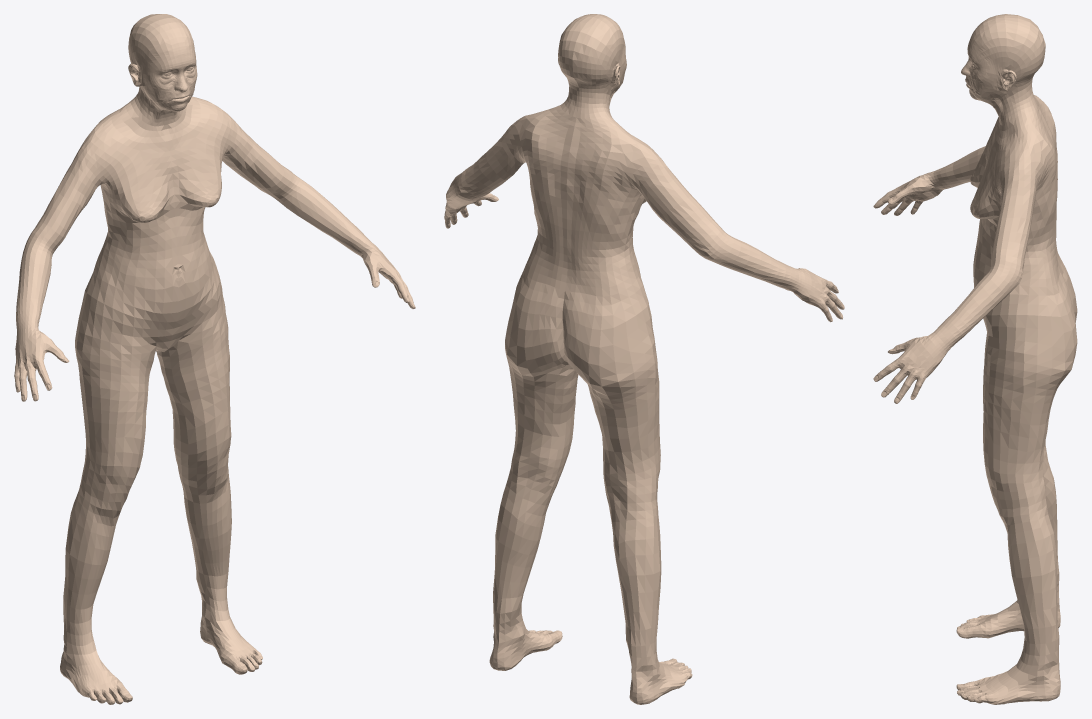
File: female-elder-heavy-medium.glb
The picture shows the model from 3 angles, left to right: view 1: azimuth 30°, elevation 25°; view 2: azimuth 150°, elevation 25°; view 3: azimuth 270°, elevation 25°; orthographic projection.
Visible parts, largest first — view 1: world; view 2: world; view 3: world.
Boxes of the visible parts, x1,y1,x2,y2 form: world: (14,14,415,704); world: (444,14,844,704); world: (873,14,1077,704).
Bounding box in the file's own units: 1.13 × 1.8 × 0.5143.
